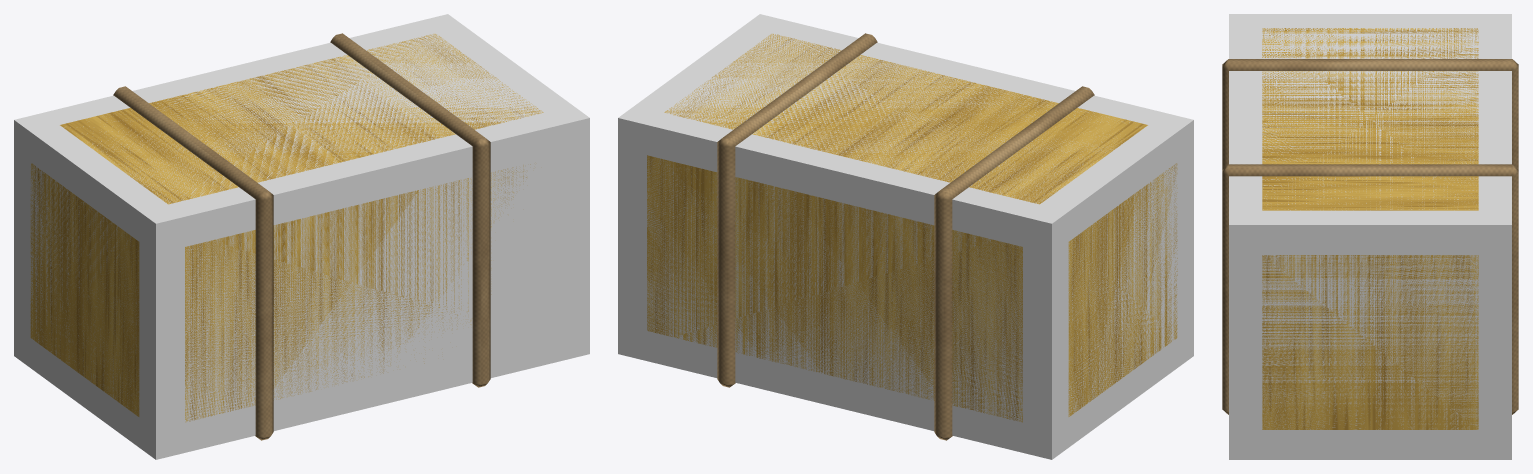
Rendered from SM_HayBale.fbx.
3 views of the same model, side by side, from view 1: azimuth 30°, elevation 25°; view 2: azimuth 150°, elevation 25°; view 3: azimuth 270°, elevation 25° (orthographic).
Visible parts, largest first — view 1: HayBale_Col0, HayBale_Body; view 2: HayBale_Col0, HayBale_Body; view 3: HayBale_Col0, HayBale_Body.
Part boxes in pixels (<box>): HayBale_Col0: <box>14,14,589,459</box>; HayBale_Body: <box>30,33,543,440</box>; HayBale_Col0: <box>618,14,1193,459</box>; HayBale_Body: <box>647,33,1177,440</box>; HayBale_Col0: <box>1229,14,1511,459</box>; HayBale_Body: <box>1222,28,1518,429</box>.
Size of the model in its own units: 3 by 1.64 by 1.78.
